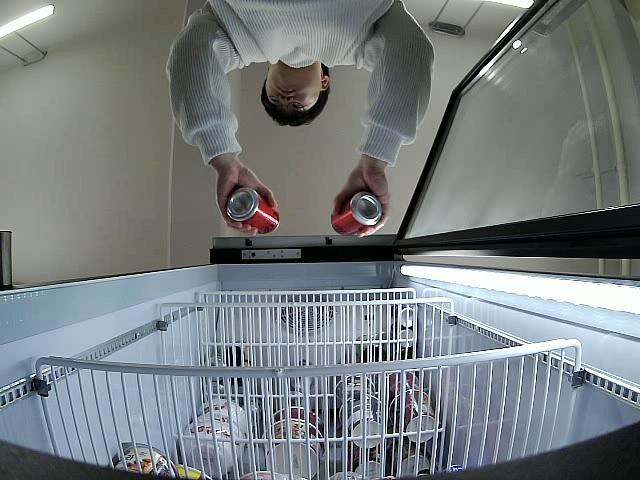00_hand: (215, 165, 278, 237), (333, 171, 391, 239)
11_cocaColaZero: (225, 187, 280, 235), (331, 191, 382, 239)
